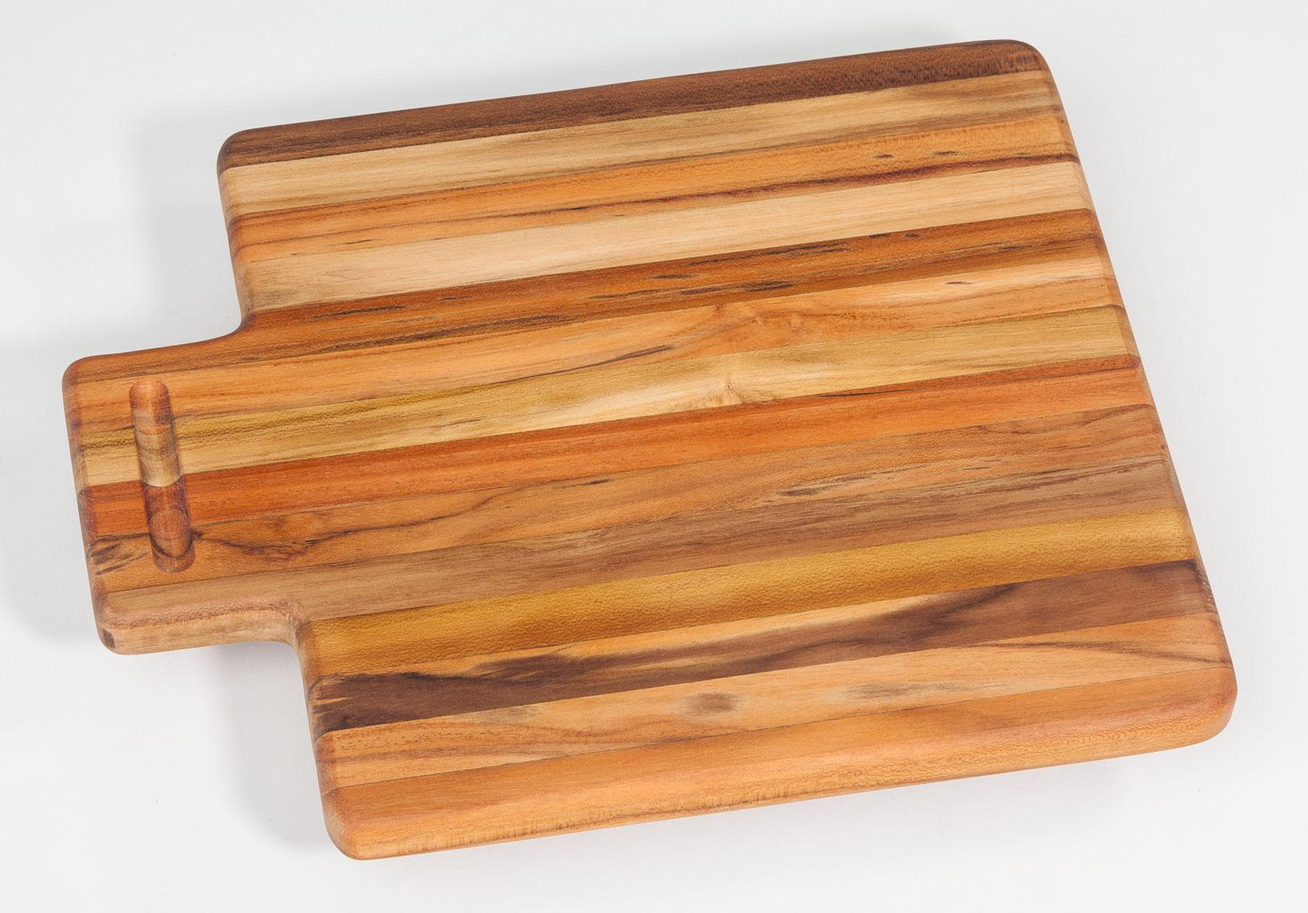gloved_hand: (48, 32, 1242, 872)
